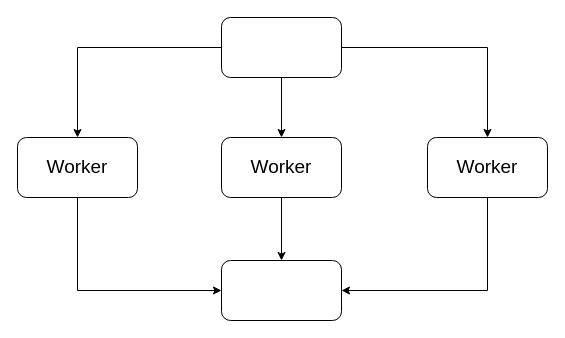
This 565x338 diagram has some shape labels left out. The centre of each missing label's shape, as x and y in pixels:
Sink: point (281, 290)
Task Ventilator: point (281, 47)
